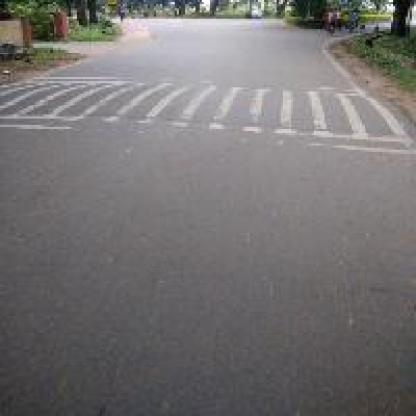Speed Bump: (0, 69, 414, 158)
